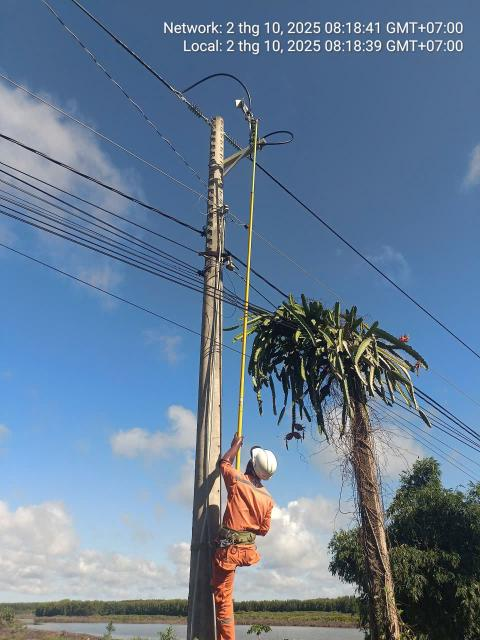gloves: (216, 428, 252, 464)
harness: (215, 521, 264, 552)
helmet: (251, 442, 283, 478)
